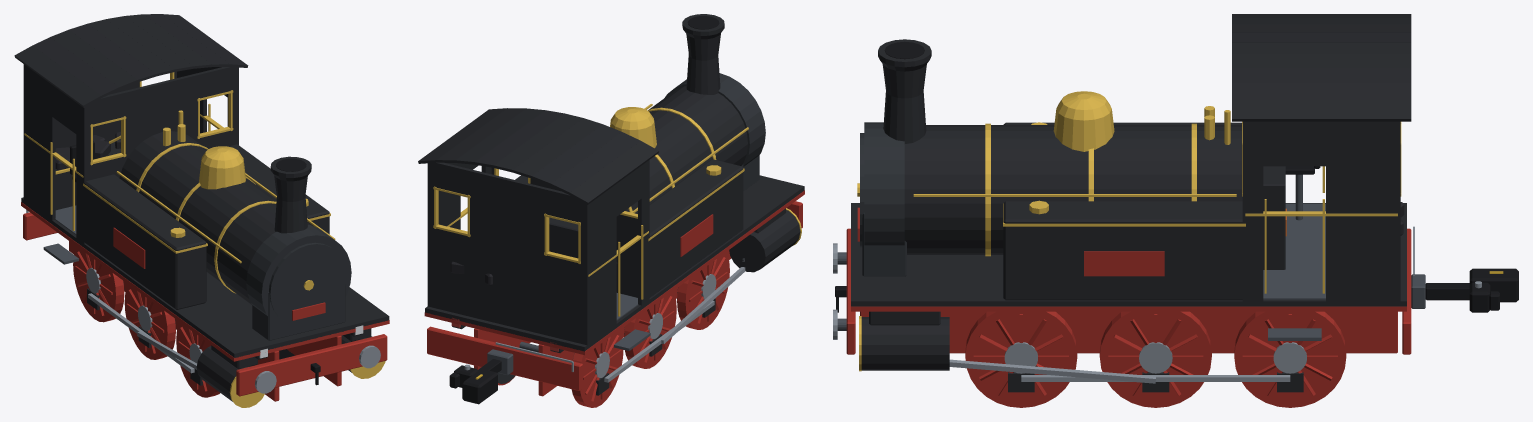
Rendered from locomotive_vapeur.glb.
3 renders of one model, left to right at view 1: azimuth 30°, elevation 25°; view 2: azimuth 150°, elevation 25°; view 3: azimuth 270°, elevation 25°, orthographic. The views are drawn at different scales.
Parts seen in each view (by area): view 1: pieces_loco_noir.002, pieces_fonte.008, pieces_loco_rouge.002, pieces_laiton.002, cheminee.002, roues_ar_loco_rouge.002, roues_motrices_loco_rouge.002, pieces_acier.008, dome.002, roues_av_loco_rouge.002, pieces_acier_sombre.008, pieces_noir.004 (+1 smaller); view 2: pieces_loco_noir.002, pieces_loco_rouge.002, pieces_laiton.002, cheminee.002, pieces_fonte.008, roues_av_loco_rouge.002, roues_ar_loco_rouge.002, roues_motrices_loco_rouge.002, pieces_acier.008, attelage_ar_noir.006, dome.002, pieces_acier_sombre.008 (+2 smaller); view 3: pieces_loco_noir.002, pieces_loco_rouge.002, roues_motrices_loco_rouge.002, roues_av_loco_rouge.002, roues_ar_loco_rouge.002, pieces_fonte.008, pieces_laiton.002, pieces_acier_sombre.008, cheminee.002, pieces_acier.008, dome.002, attelage_ar_noir.006 (+4 smaller).
Boxes of the visible parts, x1,y1,x2,y2 form: pieces_loco_noir.002: [14, 14, 389, 401]; pieces_fonte.008: [246, 225, 351, 340]; pieces_loco_rouge.002: [21, 202, 389, 401]; pieces_laiton.002: [24, 72, 385, 407]; cheminee.002: [270, 156, 311, 233]; roues_ar_loco_rouge.002: [73, 246, 124, 322]; roues_motrices_loco_rouge.002: [124, 284, 175, 359]; pieces_acier.008: [26, 210, 380, 393]; dome.002: [198, 146, 245, 189]; roues_av_loco_rouge.002: [176, 322, 219, 397]; pieces_acier_sombre.008: [43, 205, 78, 264]; pieces_noir.004: [70, 141, 320, 385]; pieces_loco_noir.002: [418, 86, 804, 352]; pieces_loco_rouge.002: [424, 190, 804, 396]; pieces_laiton.002: [433, 104, 801, 316]; cheminee.002: [682, 14, 724, 94]; pieces_fonte.008: [665, 73, 765, 191]; roues_av_loco_rouge.002: [677, 252, 729, 329]; roues_ar_loco_rouge.002: [498, 330, 623, 407]; roues_motrices_loco_rouge.002: [624, 291, 676, 368]; pieces_acier.008: [495, 258, 745, 382]; attelage_ar_noir.006: [449, 359, 501, 404]; dome.002: [610, 107, 656, 148]; pieces_acier_sombre.008: [614, 293, 650, 350]; pieces_loco_noir.002: [851, 14, 1411, 370]; pieces_loco_rouge.002: [846, 207, 1411, 354]; roues_motrices_loco_rouge.002: [1099, 311, 1211, 407]; roues_av_loco_rouge.002: [965, 311, 1077, 407]; roues_ar_loco_rouge.002: [1234, 311, 1346, 407]; pieces_fonte.008: [860, 122, 906, 276]; pieces_laiton.002: [857, 106, 1401, 371]; pieces_acier_sombre.008: [837, 174, 1325, 340]; cheminee.002: [878, 39, 931, 143]; pieces_acier.008: [833, 226, 1414, 383]; dome.002: [1053, 91, 1114, 151]; attelage_ar_noir.006: [1425, 268, 1518, 312].
Bounding box in the file's own units: 2.95 × 4.05 × 7.65.
